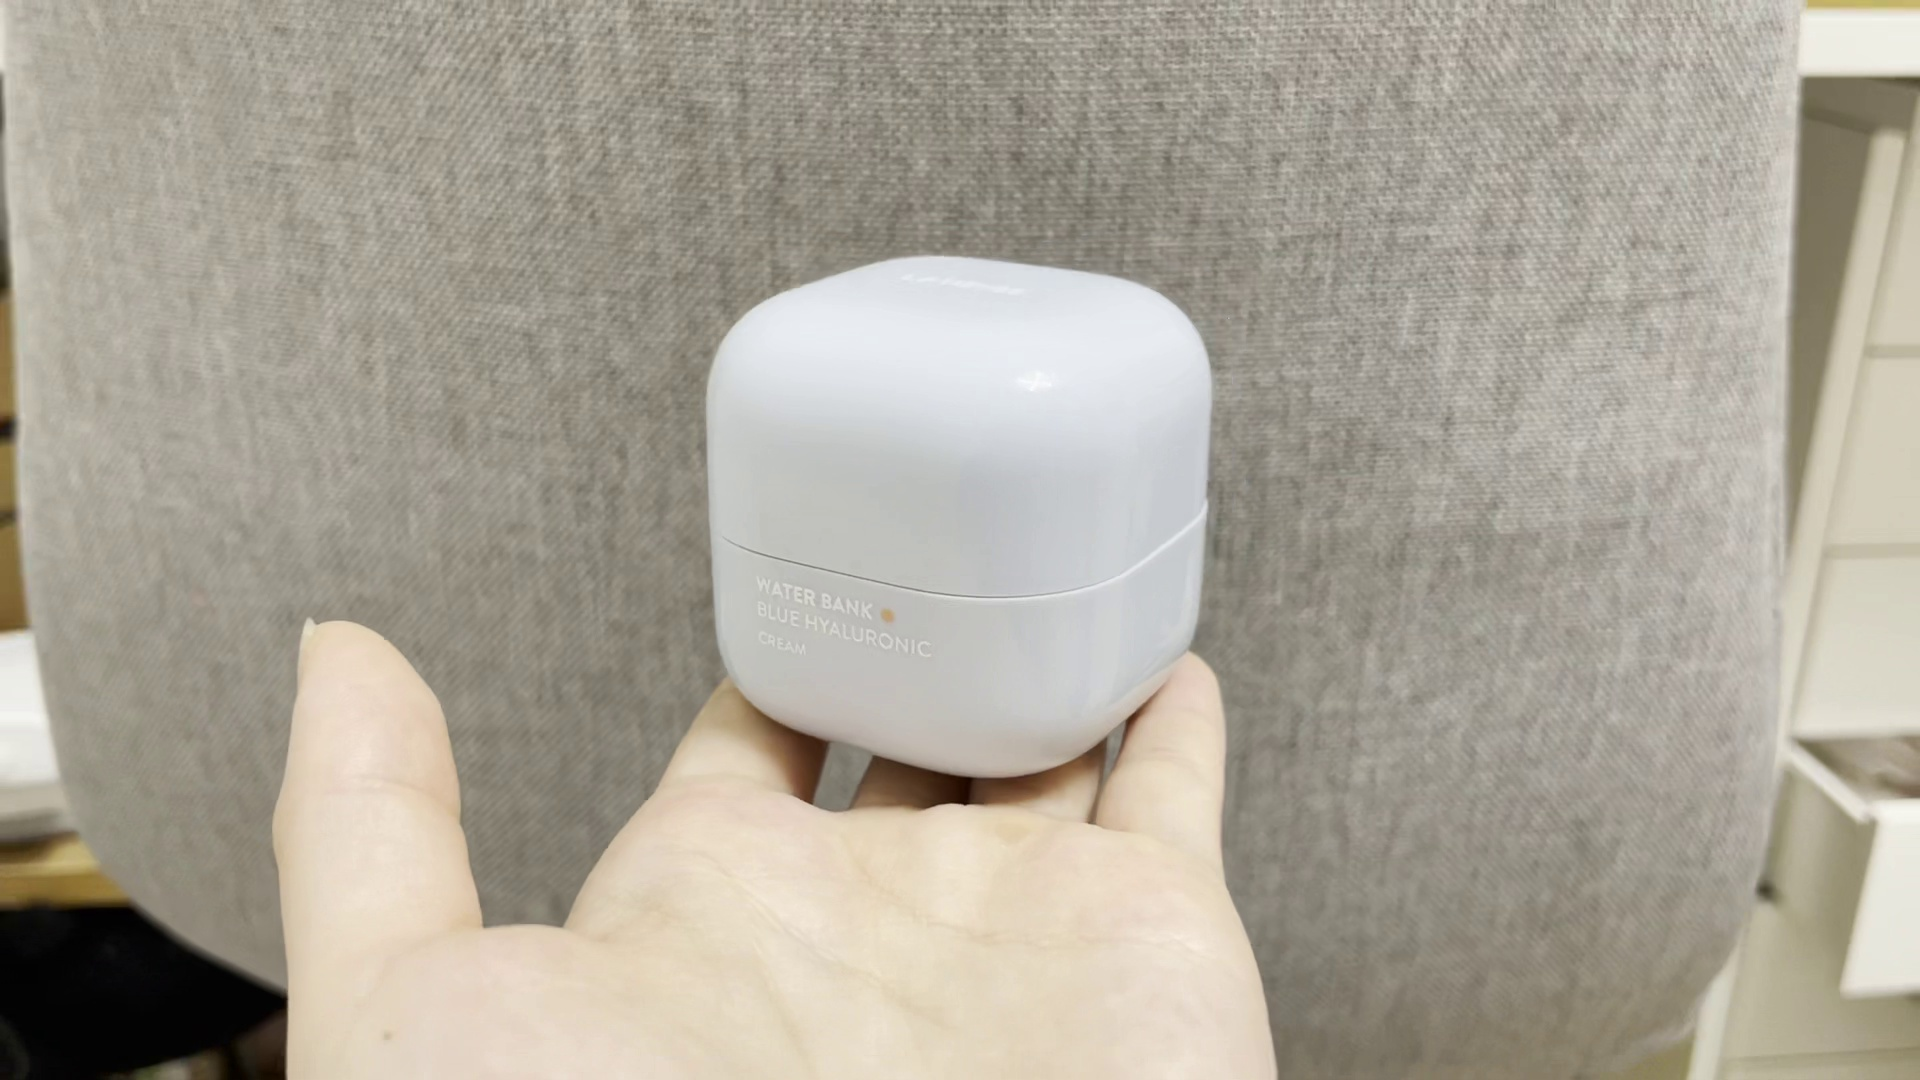cream: (704, 255, 1212, 782)
